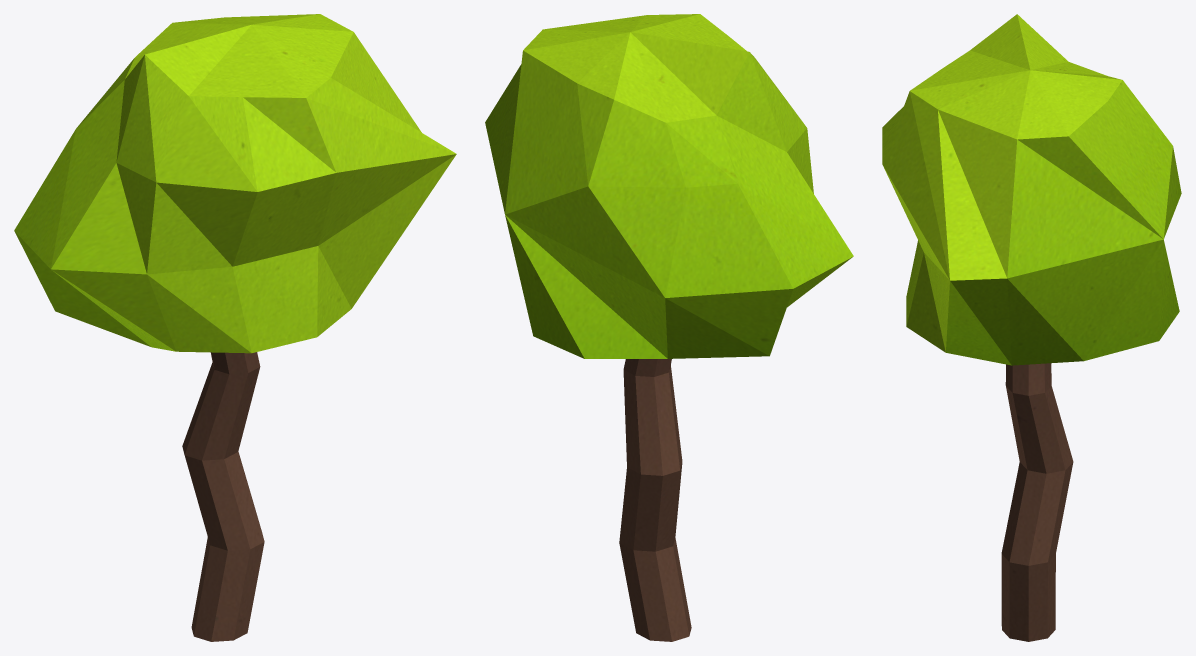
File: Prop_Roundtree 1.FBX
The picture shows the model from 3 angles, left to right: view 1: azimuth 30°, elevation 25°; view 2: azimuth 150°, elevation 25°; view 3: azimuth 270°, elevation 25°; orthographic projection. The views are drawn at different scales.
Parts seen in each view (by area): view 1: Tree_Decoration; view 2: Tree_Decoration; view 3: Tree_Decoration.
Boxes of the visible parts, <box> form: Tree_Decoration: <box>14,14,456,641</box>; Tree_Decoration: <box>485,14,853,641</box>; Tree_Decoration: <box>882,14,1181,641</box>.
Size of the model in its own units: 181 by 275 by 129.
